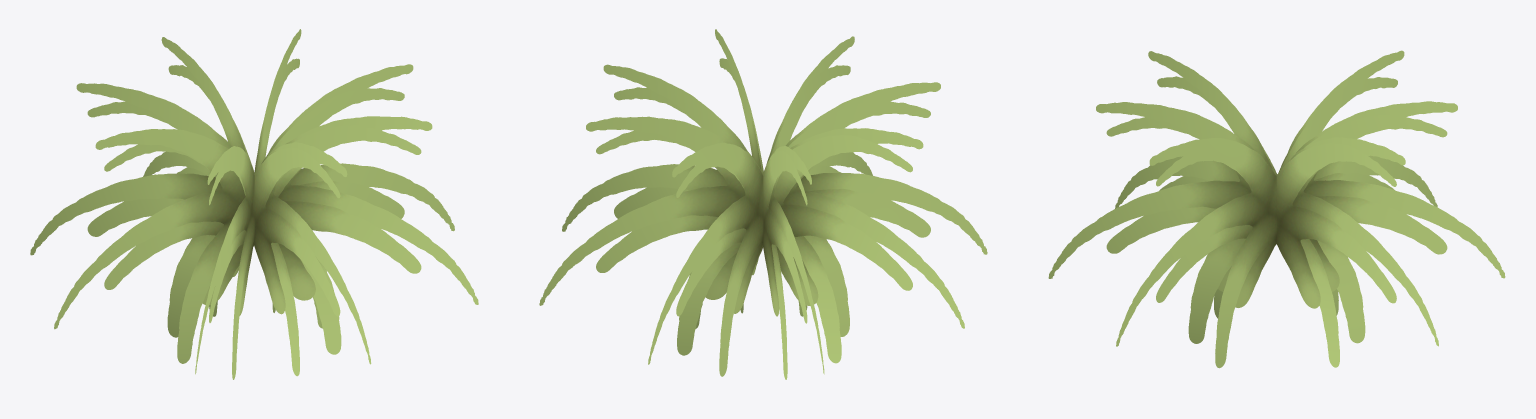
Rendered from painted-weed-034.glb.
3 views of the same model, side by side, from view 1: azimuth 30°, elevation 25°; view 2: azimuth 150°, elevation 25°; view 3: azimuth 270°, elevation 25° (orthographic).
Size of the model in its own units: 11.74 by 6.83 by 11.74.
1 material, 1 textured.
